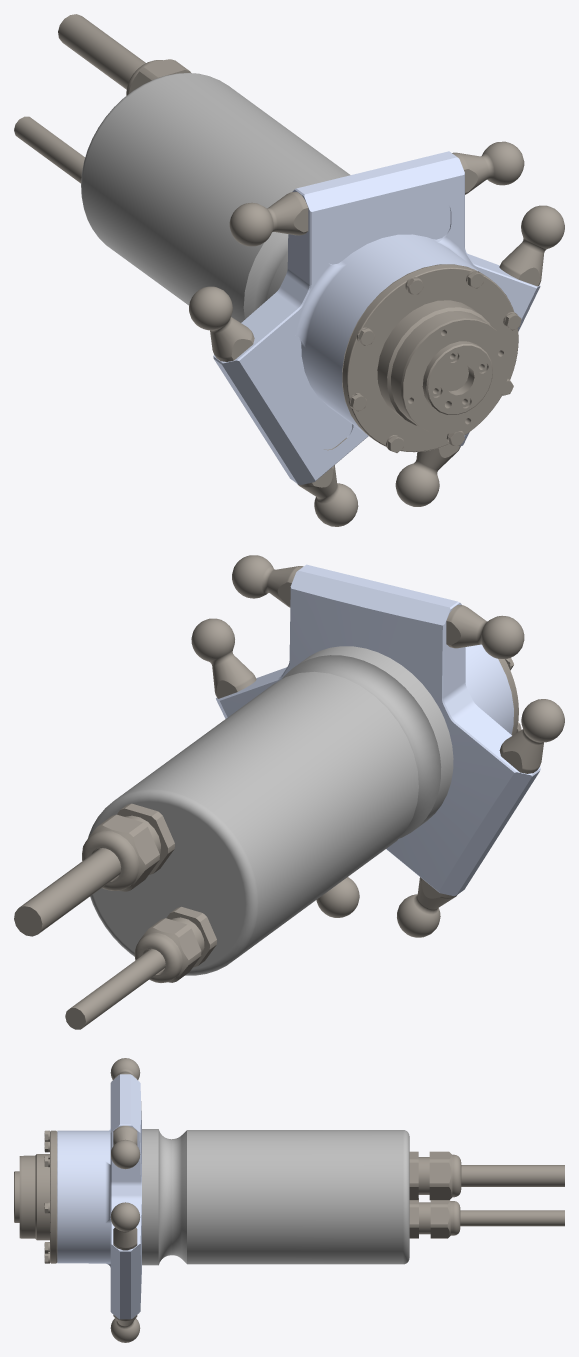
The model's file is AbiFlexx D4-1300_end-effector.obj.
3 renders of one model, top to bottom at view 1: azimuth 30°, elevation 25°; view 2: azimuth 150°, elevation 25°; view 3: azimuth 270°, elevation 25°, orthographic. The views are drawn at different scales.
Visible parts, largest first — view 1: mesh 1 AbiFlexx D4-1300_end-effector, mesh 2 Body-Move/Copy1, mesh 3 Body-Move/Copy1 face; view 2: mesh 3 Body-Move/Copy1 face, mesh 2 Body-Move/Copy1, mesh 1 AbiFlexx D4-1300_end-effector; view 3: mesh 3 Body-Move/Copy1 face, mesh 1 AbiFlexx D4-1300_end-effector, mesh 2 Body-Move/Copy1.
Part boxes in pixels (x1,y1,x2,y2): mesh 1 AbiFlexx D4-1300_end-effector: (14, 14, 564, 526); mesh 2 Body-Move/Copy1: (213, 151, 540, 484); mesh 3 Body-Move/Copy1 face: (81, 73, 350, 322); mesh 3 Body-Move/Copy1 face: (88, 646, 453, 975); mesh 2 Body-Move/Copy1: (216, 564, 540, 895); mesh 1 AbiFlexx D4-1300_end-effector: (14, 555, 564, 1029); mesh 3 Body-Move/Copy1 face: (142, 1129, 409, 1265); mesh 1 AbiFlexx D4-1300_end-effector: (14, 1058, 564, 1342); mesh 2 Body-Move/Copy1: (57, 1074, 141, 1319).
Bounding box in the file's own units: 0.155 × 0.1369 × 0.2988.
